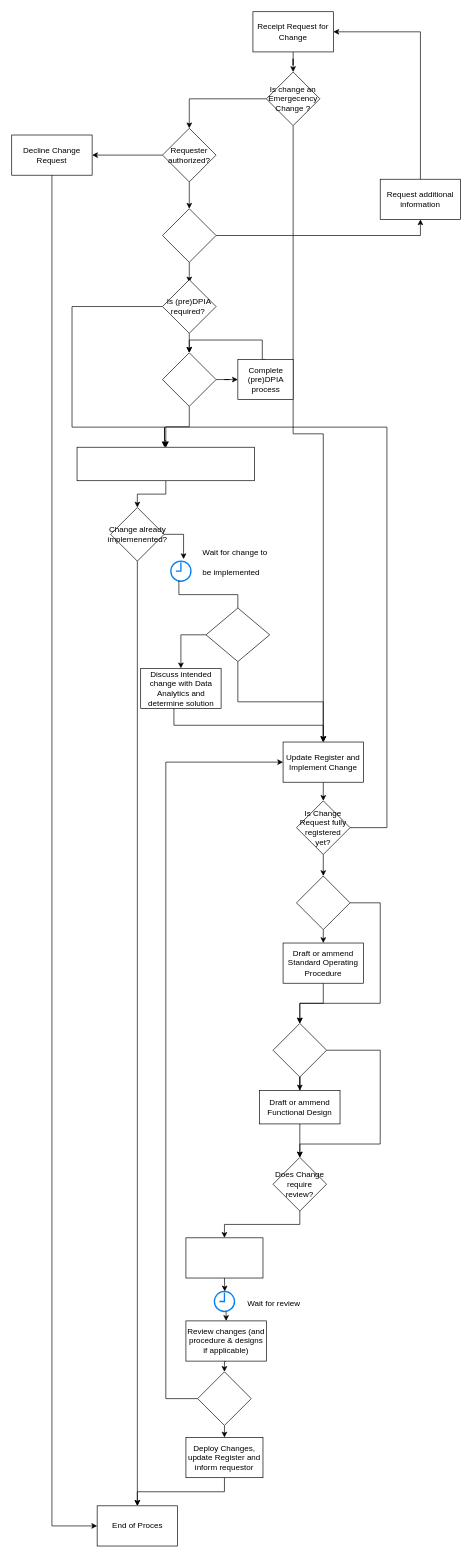
Some shapes in this 472 by 1558 pixel diagram are drawn without their labels. Each missing label, with the centre of its shape:
"Can changes be reverted do not immediately affect production environment" goes at pixel 237 634.
"Complete Request Label Change, plan request and assign lead developer" goes at pixel 165 464.
"Does Product has or require Functional Design?" goes at pixel 299 1050.
"Does Product has or require standard Operating Procedure?" goes at pixel 323 902.
"Is (pre)DPIA completed and accepted & written approval registered?" goes at pixel 189 379.
"Label Product ready for review, plan and assign reviewer" goes at pixel 224 1257.
"Request Complete and clear?" goes at pixel 189 235.
"Review acceptated?" goes at pixel 224 1398.
